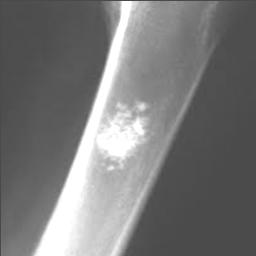cancer: (94, 96, 150, 170)
